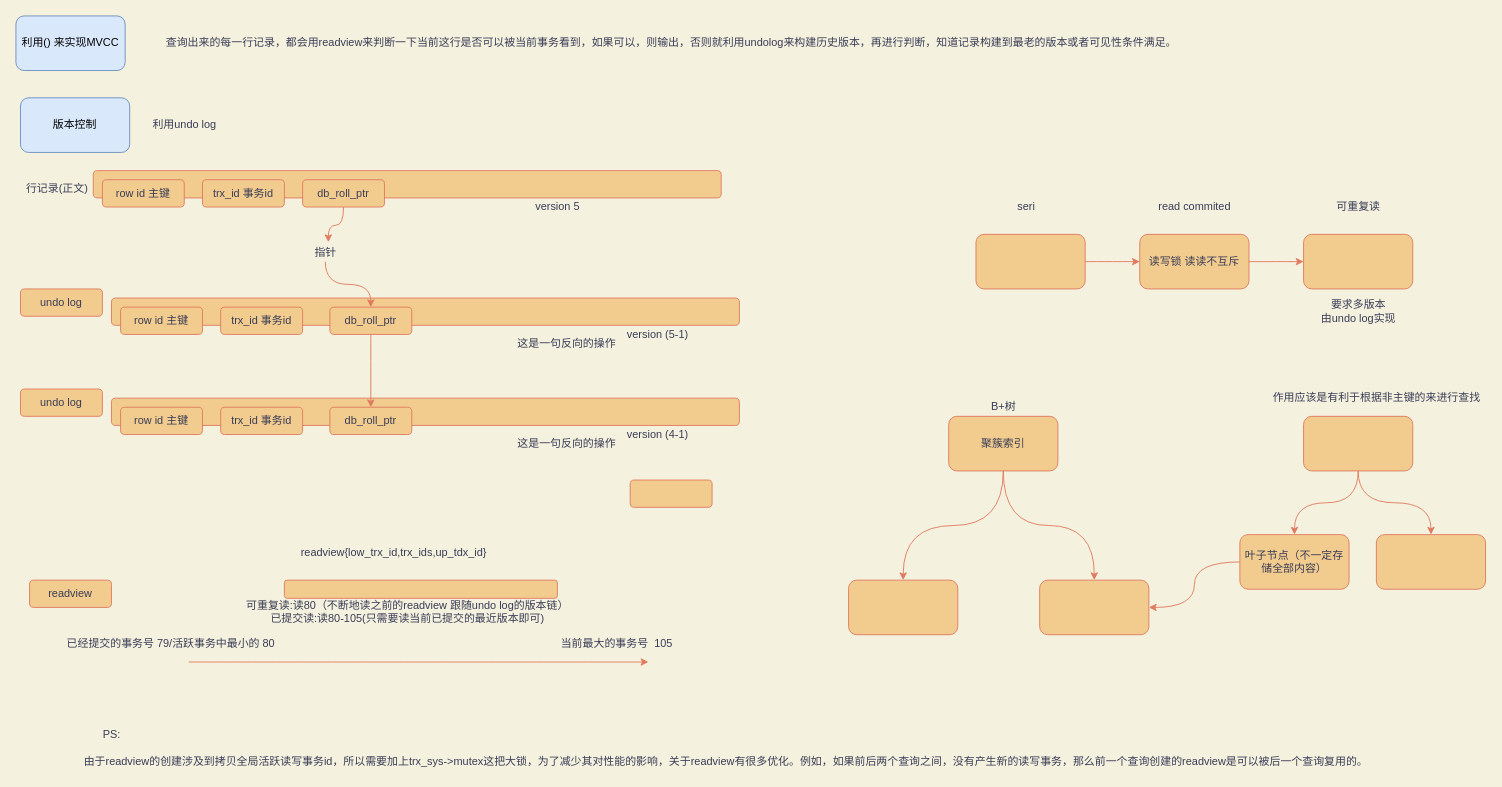
The diagram is 1502 pixels wide and 787 high, and some of its shapes have lost their labels. Each missing label, with the box of its shape:
创建readview时，这些事务的SQL正在执行 还未提交。: (283, 579, 557, 598)
叶子节点 存储内容: (1039, 579, 1149, 635)
简单加锁: (975, 233, 1085, 289)
读快照 读写不互斥: (1303, 233, 1413, 289)
辅助索引: (1303, 415, 1413, 471)
